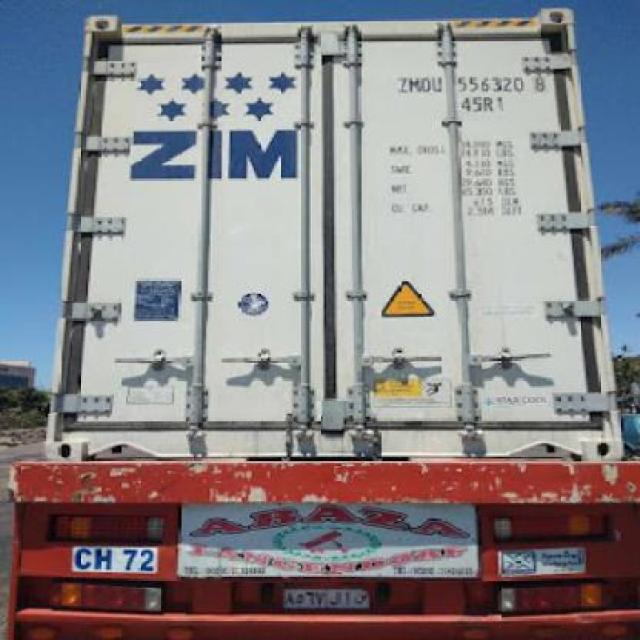ISO: (459, 94, 502, 112)
container_number: (395, 75, 544, 93)
